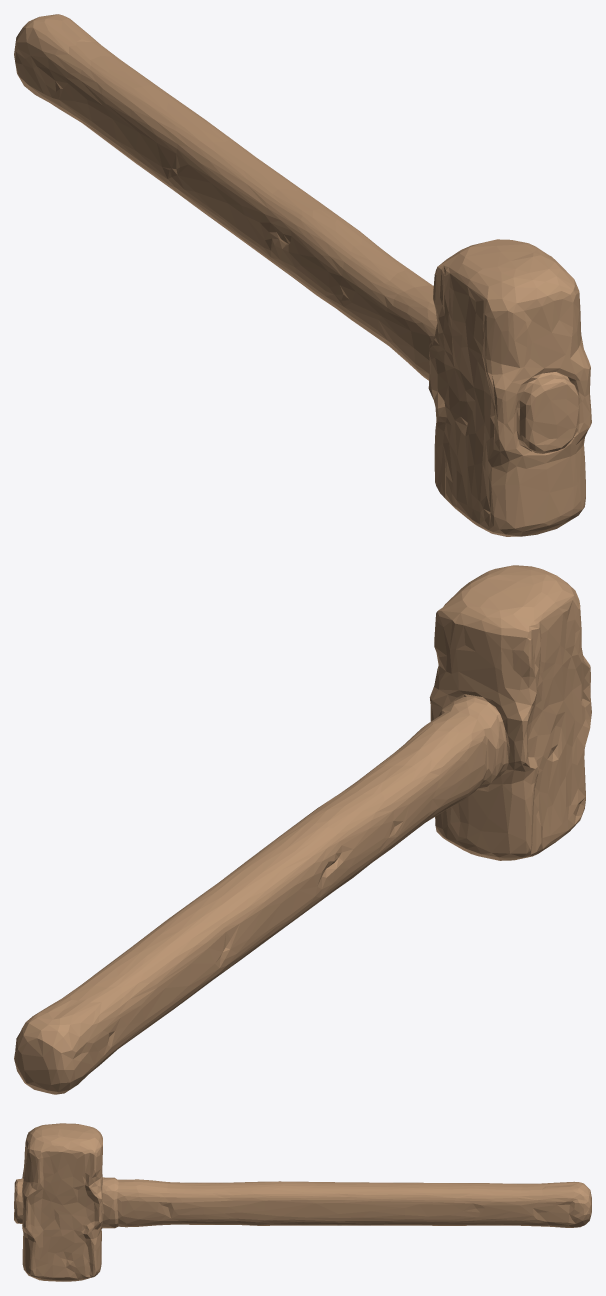
Rendered from sledgehammer.glb.
The picture shows the model from 3 angles, top to bottom: view 1: azimuth 30°, elevation 25°; view 2: azimuth 150°, elevation 25°; view 3: azimuth 270°, elevation 25°; orthographic projection. The views are drawn at different scales.
Parts seen in each view (by area): view 1: world; view 2: world; view 3: world.
Part boxes in pixels (bbox=[...]): world: bbox=[14, 14, 591, 536]; world: bbox=[14, 565, 591, 1094]; world: bbox=[14, 1123, 591, 1281].
Size of the model in its own units: 0.0944 by 0.2338 by 0.85.
